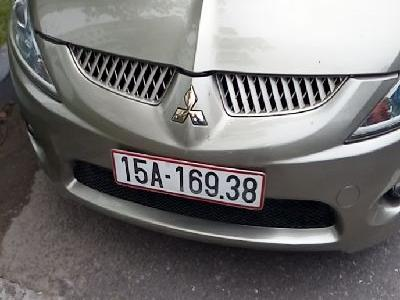car: (111, 149, 267, 213)
